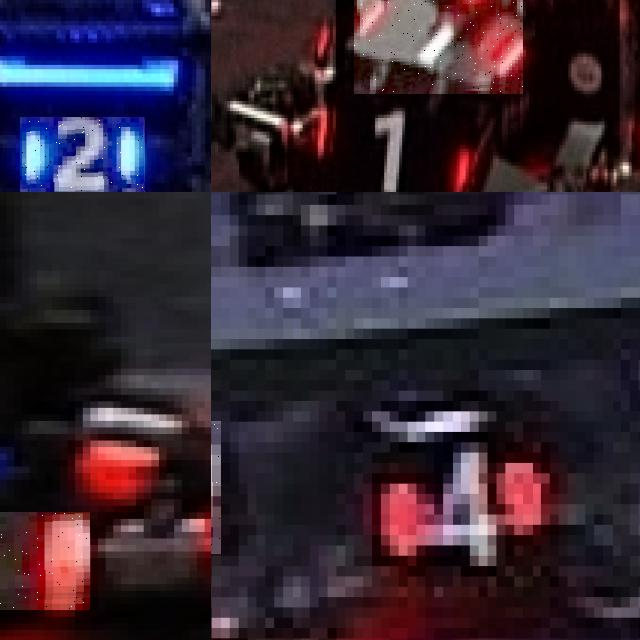B2: (20, 117, 146, 192)
R1: (308, 97, 480, 192), (354, 0, 523, 94), (0, 512, 90, 610)
R4: (372, 442, 559, 576)
